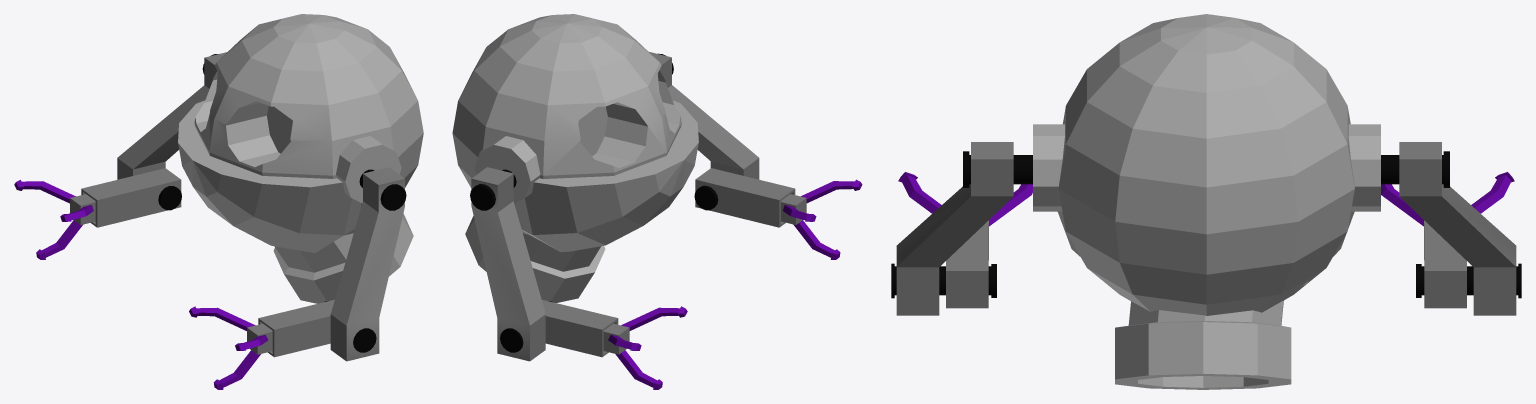
File: Basic Chip.fbx
3 renders of one model, left to right at view 1: azimuth 30°, elevation 25°; view 2: azimuth 150°, elevation 25°; view 3: azimuth 270°, elevation 25°, orthographic. The views are drawn at different scales.
Parts seen in each view (by area): view 1: polySurface8, pasted__pasted__Hand4, pasted__pSphere7, pCylinder8, pCylinder10; view 2: polySurface8, pasted__pasted__Hand4, pasted__pSphere7, pCylinder8, pCylinder9; view 3: polySurface8, pasted__pasted__Hand4, pCylinder8, pCylinder9, pCylinder10.
Boxes of the visible parts, <box> form: polySurface8: <box>194,14,423,235</box>; pasted__pasted__Hand4: <box>14,52,406,389</box>; pasted__pSphere7: <box>178,100,360,253</box>; pCylinder8: <box>273,213,413,303</box>; pCylinder10: <box>336,136,401,203</box>; polySurface8: <box>452,14,681,234</box>; pasted__pasted__Hand4: <box>470,52,862,389</box>; pasted__pSphere7: <box>515,100,698,252</box>; pCylinder8: <box>465,216,605,302</box>; pCylinder9: <box>474,136,540,203</box>; polySurface8: <box>1058,14,1354,315</box>; pasted__pasted__Hand4: <box>891,142,1521,315</box>; pCylinder8: <box>1115,300,1291,389</box>; pCylinder9: <box>1348,124,1380,211</box>; pCylinder10: <box>1033,124,1064,211</box>.
Size of the model in its own units: 5.5 by 5.09 by 7.87.
